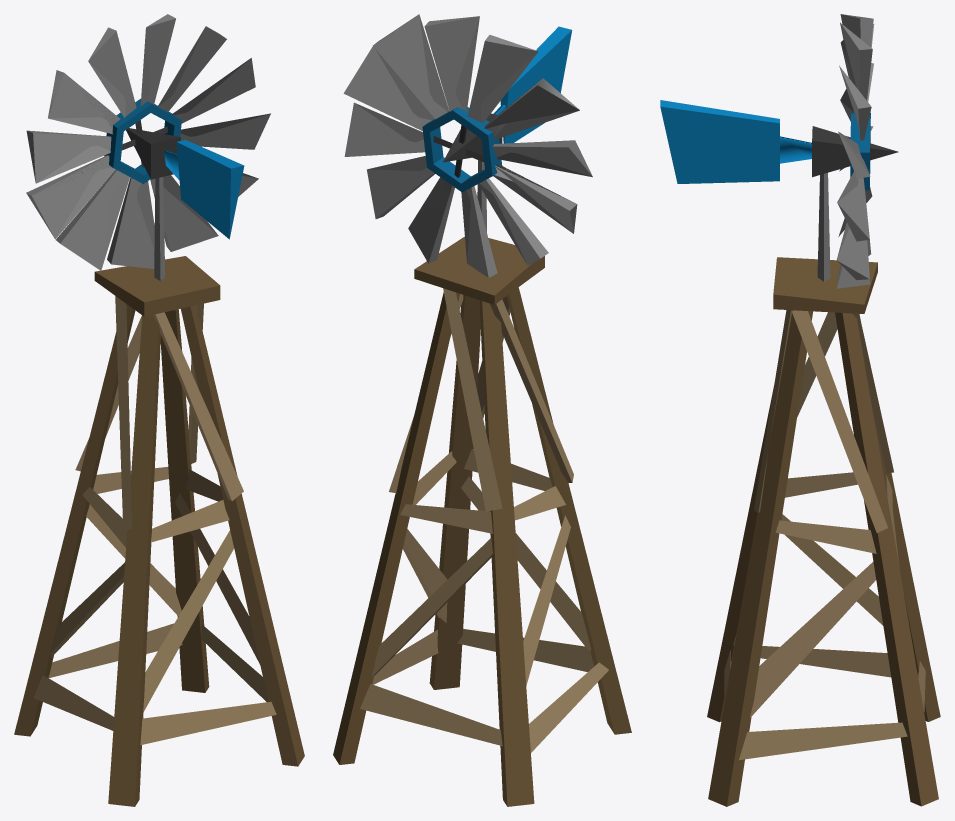
File: model_polytope_windmill.fbx
The picture shows the model from 3 angles, left to right: view 1: azimuth 30°, elevation 25°; view 2: azimuth 150°, elevation 25°; view 3: azimuth 270°, elevation 25°; orthographic projection. The views are drawn at different scales.
Visible parts, largest first — view 1: model_polytope_windmill, model_polytope_windmill_blades, model_polytope_windmill_back; view 2: model_polytope_windmill, model_polytope_windmill_blades, model_polytope_windmill_back; view 3: model_polytope_windmill, model_polytope_windmill_back, model_polytope_windmill_blades.
Boxes of the visible parts, x1=… form: model_polytope_windmill: x1=14, y1=177, x2=304, y2=806; model_polytope_windmill_blades: x1=26, y1=14, x2=270, y2=270; model_polytope_windmill_back: x1=126, y1=128, x2=244, y2=239; model_polytope_windmill: x1=333, y1=160, x2=631, y2=806; model_polytope_windmill_blades: x1=343, y1=14, x2=592, y2=277; model_polytope_windmill_back: x1=443, y1=26, x2=572, y2=162; model_polytope_windmill: x1=707, y1=172, x2=940, y2=806; model_polytope_windmill_back: x1=660, y1=100, x2=898, y2=183; model_polytope_windmill_blades: x1=836, y1=14, x2=874, y2=288.
Bounding box in the file's own units: 412 × 1201 × 417.
